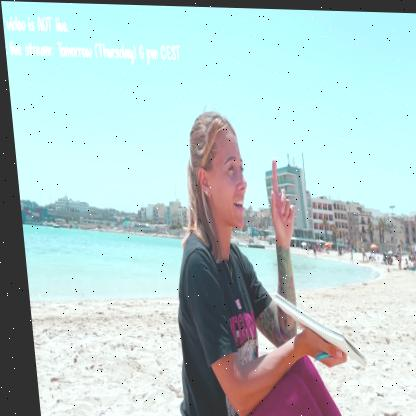streamer: (143, 98, 354, 416)
